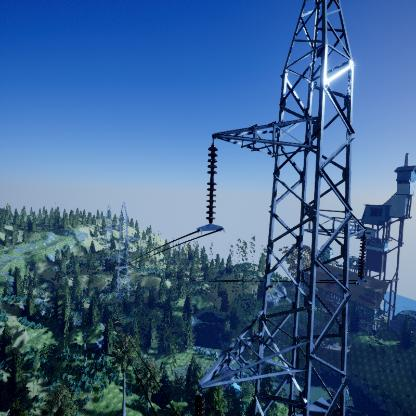insulator: (206, 145, 219, 222), (356, 229, 370, 284)
